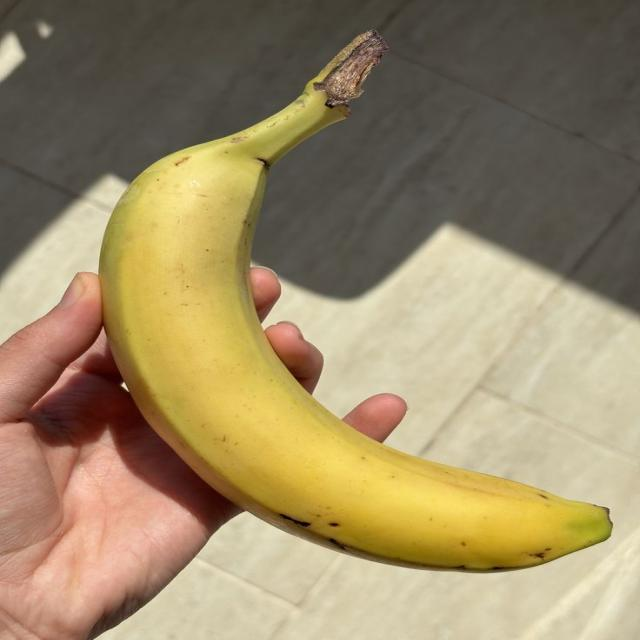unpeal banana: (100, 32, 611, 570)
